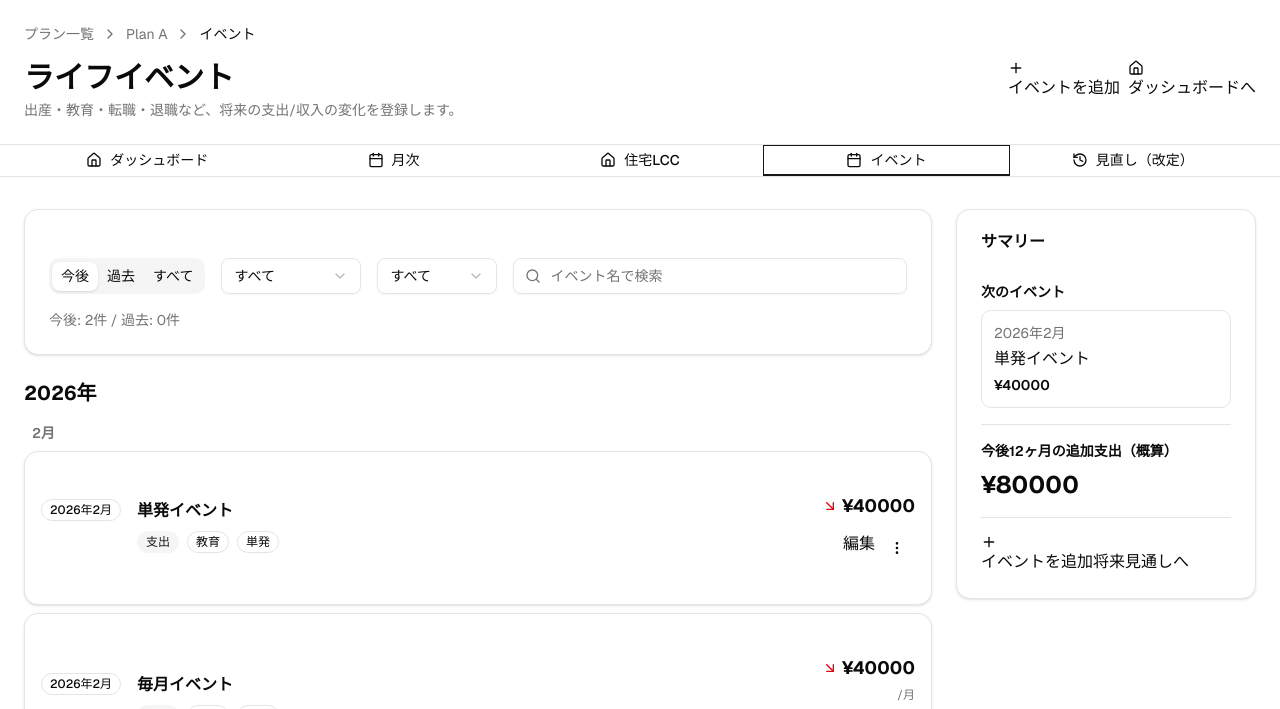
Scenario: EventsPage › filters events by cadence
The width and height of the screenshot is (1280, 709).
Expected: the heading "単発イベント" is shown, [137,499,233,523]
Click the 2nd dropdown labelled "すべて" at [438, 276], box [378,258,498,294]
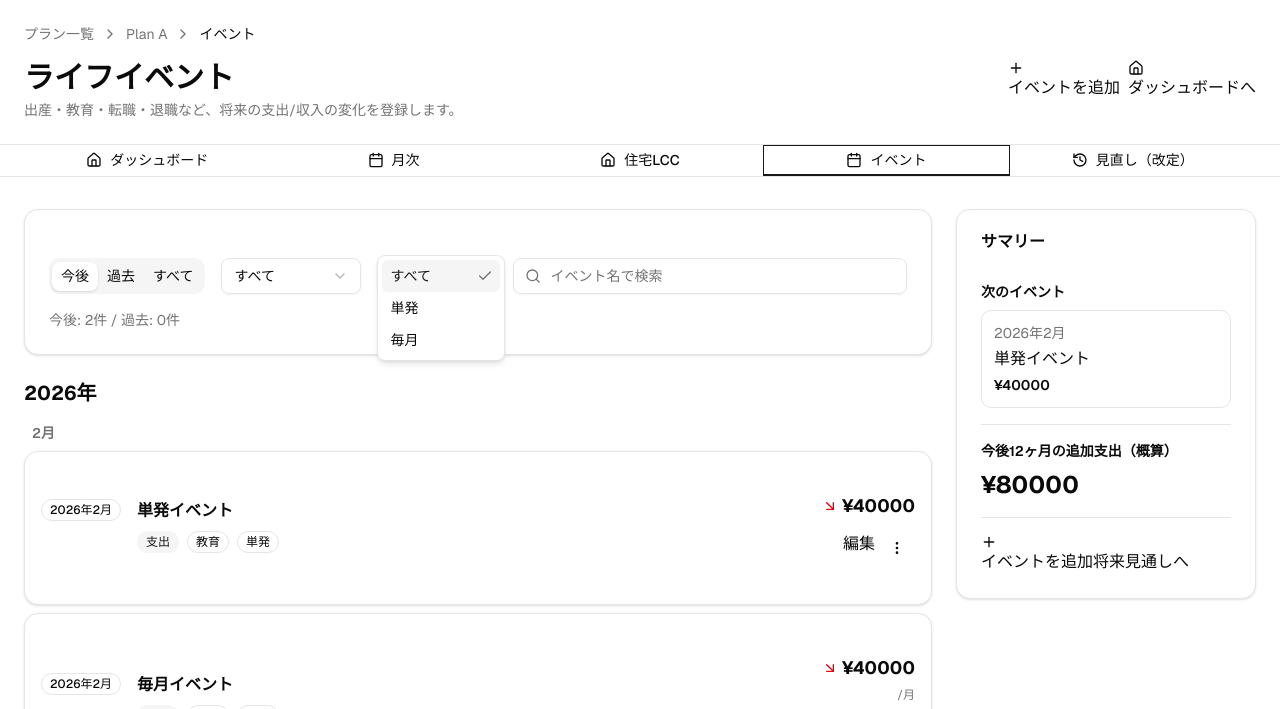
Click the option "毎月" at [404, 340], box [390,331,418,349]
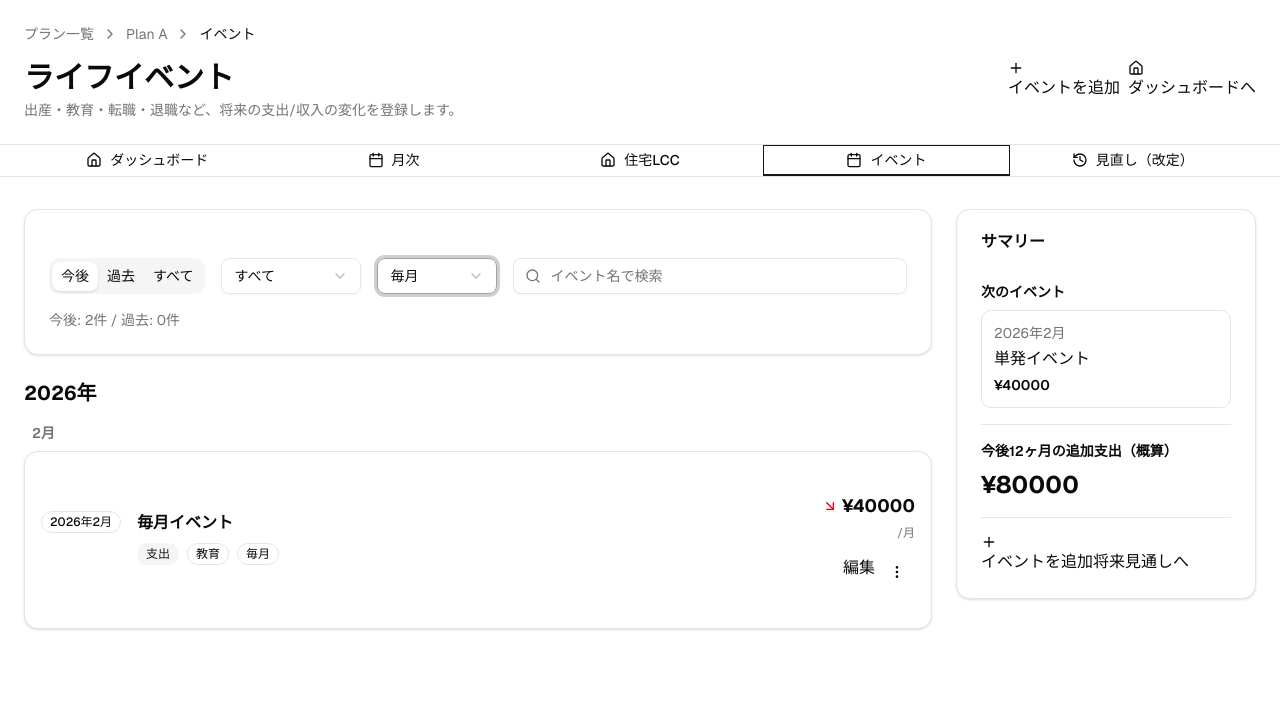
Expected: the link to "/plans/plan-123/events/monthly/edit" is shown, [843,556,875,588]
Expected: the link to "/plans/plan-123/events/once/edit" is gone
